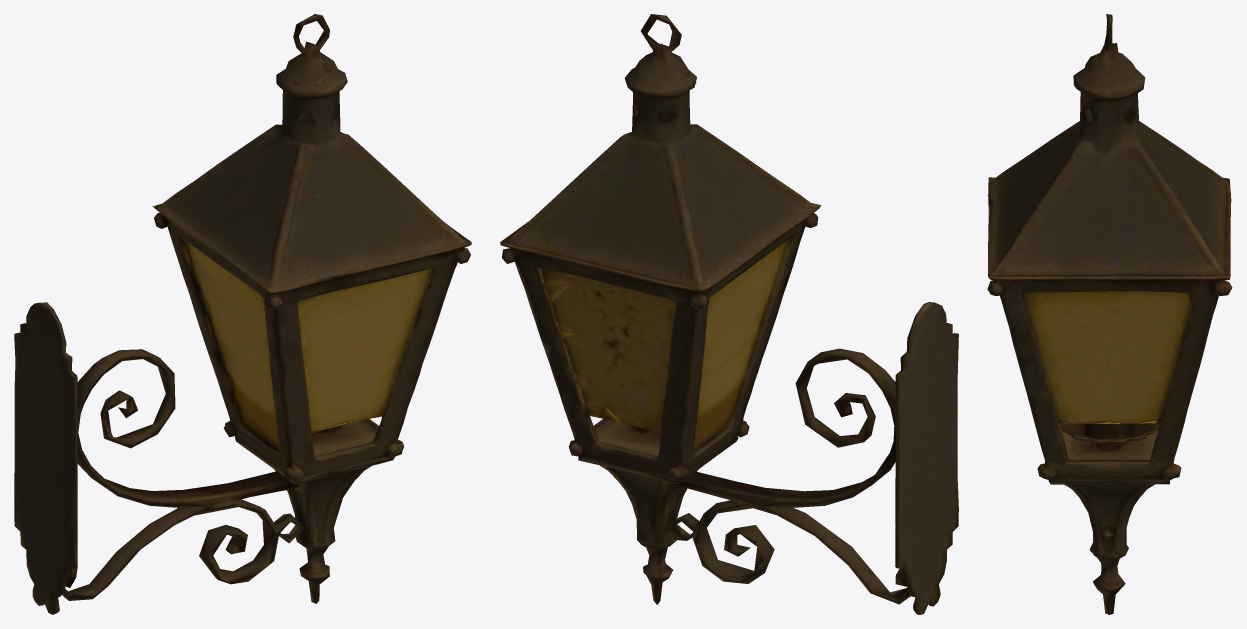
File: wall-lantern.glb
3 views of the same model, side by side, from view 1: azimuth 30°, elevation 25°; view 2: azimuth 150°, elevation 25°; view 3: azimuth 270°, elevation 25° (orthographic).
Visible parts, largest first — view 1: tripo_node_3d47452c-1d0f-4afb-ac3a-3522d90a5bd4; view 2: tripo_node_3d47452c-1d0f-4afb-ac3a-3522d90a5bd4; view 3: tripo_node_3d47452c-1d0f-4afb-ac3a-3522d90a5bd4.
Boxes of the visible parts, bbox=[...] form: tripo_node_3d47452c-1d0f-4afb-ac3a-3522d90a5bd4: bbox=[14, 14, 471, 614]; tripo_node_3d47452c-1d0f-4afb-ac3a-3522d90a5bd4: bbox=[500, 14, 958, 614]; tripo_node_3d47452c-1d0f-4afb-ac3a-3522d90a5bd4: bbox=[987, 14, 1232, 614].
Bounding box in the file's own units: 0.3962 × 0.6 × 0.2233.
Materials: 1 (1 with a texture image).
